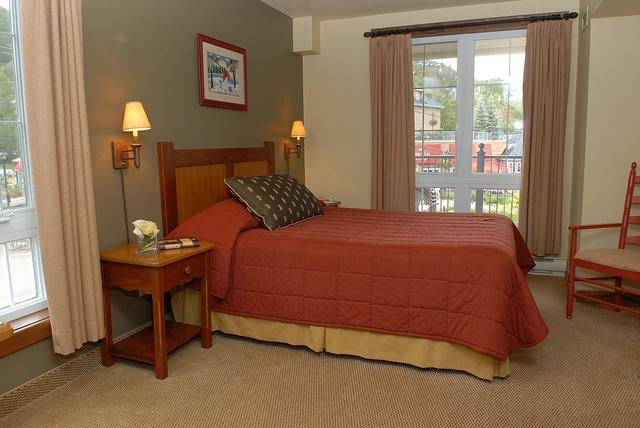Kursi: (564, 159, 639, 320)
Meja: (98, 236, 214, 381)
